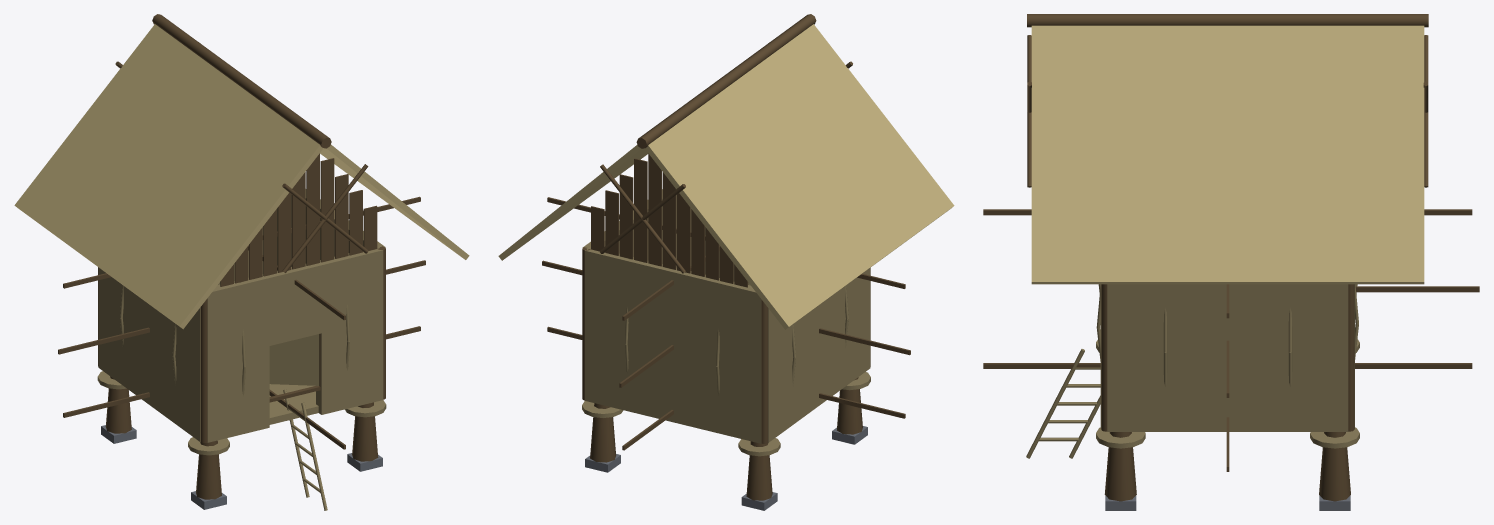
The model's file is vietnamese-rice-granary-raised.glb.
3 renders of one model, left to right at view 1: azimuth 30°, elevation 25°; view 2: azimuth 150°, elevation 25°; view 3: azimuth 270°, elevation 25°, orthographic. The views are drawn at different scales.
Visible parts, largest first — view 1: Mesh_RoofA, Mesh_GranaryRoom_WallRight, Mesh_GranaryRoom_WallFront_L, Mesh_GranaryRoom_WallFront_R, Mesh_GranaryRoom_WallFront_Lintel, Mesh_RoofRidgePole, Mesh_DoorPanel, Mesh_RoofB, Mesh_GableSlab_F_-0.54, Mesh_GableSlab_F_-0.32, Mesh_GranaryRoom_Floor, Mesh_Stilt_FL (+15 smaller); view 2: Mesh_RoofA, Mesh_GranaryRoom_WallBack, Mesh_GranaryRoom_WallRight, Mesh_RoofRidgePole, Mesh_RoofB, Mesh_GableSlab_B_-0.32, Mesh_GableSlab_B_-0.54, Mesh_GableSlab_B_-0.10, Mesh_Stilt_BL, Mesh_Stilt_BR, Mesh_GableSlab_B_-0.76, Mesh_CornerPost_BL (+10 smaller); view 3: Mesh_RoofB, Mesh_GranaryRoom_WallLeft, Mesh_RoofRidgePole, Mesh_Stilt_BR, Mesh_Stilt_FR, Mesh_CornerPost_FR, Mesh_CornerPost_BR, Mesh_Belt_B_Mid, Mesh_Belt_B_Low, Mesh_Belt_F_Low, Mesh_RatGuard_BR, Mesh_RatGuard_FR (+3 smaller).
Part boxes in pixels (x1,y1,x2,y2): Mesh_RoofA: (14,24,323,329); Mesh_GranaryRoom_WallRight: (98,268,200,441); Mesh_GranaryRoom_WallFront_L: (316,246,383,414); Mesh_GranaryRoom_WallFront_R: (207,274,269,442); Mesh_GranaryRoom_WallFront_Lintel: (263,263,322,346); Mesh_RoofRidgePole: (152,14,331,148); Mesh_DoorPanel: (269,334,319,385); Mesh_RoofB: (320,144,469,259); Mesh_GableSlab_F_-0.54: (320,158,334,262); Mesh_GableSlab_F_-0.32: (306,153,319,265); Mesh_GranaryRoom_Floor: (269,384,318,424); Mesh_Stilt_FL: (196,440,221,499); Mesh_RoofA: (645,24,954,329); Mesh_GranaryRoom_WallBack: (585,246,761,443); Mesh_GranaryRoom_WallRight: (768,268,870,442); Mesh_RoofRidgePole: (636,14,816,148); Mesh_RoofB: (498,144,648,260); Mesh_GableSlab_B_-0.32: (648,153,661,266); Mesh_GableSlab_B_-0.54: (634,158,647,262); Mesh_GableSlab_B_-0.10: (662,172,676,269); Mesh_Stilt_BL: (746,441,772,500); Mesh_Stilt_BR: (590,403,615,462); Mesh_GableSlab_B_-0.76: (619,174,633,259); Mesh_CornerPost_BL: (761,299,767,443); Mesh_RoofB: (1031,25,1424,284); Mesh_GranaryRoom_WallLeft: (1107,284,1348,431); Mesh_RoofRidgePole: (1027,14,1428,27); Mesh_Stilt_BR: (1319,432,1350,501); Mesh_Stilt_FR: (1104,432,1136,501); Mesh_CornerPost_FR: (1101,284,1107,431); Mesh_CornerPost_BR: (1348,284,1354,431); Mesh_Belt_B_Mid: (1355,286,1479,292); Mesh_Belt_B_Low: (1355,363,1472,368); Mesh_Belt_F_Low: (983,363,1100,368); Mesh_RatGuard_BR: (1310,427,1359,448); Mesh_RatGuard_FR: (1096,427,1145,448).
Bounding box in the file's own units: 5.64 × 5.5 × 5.56.
